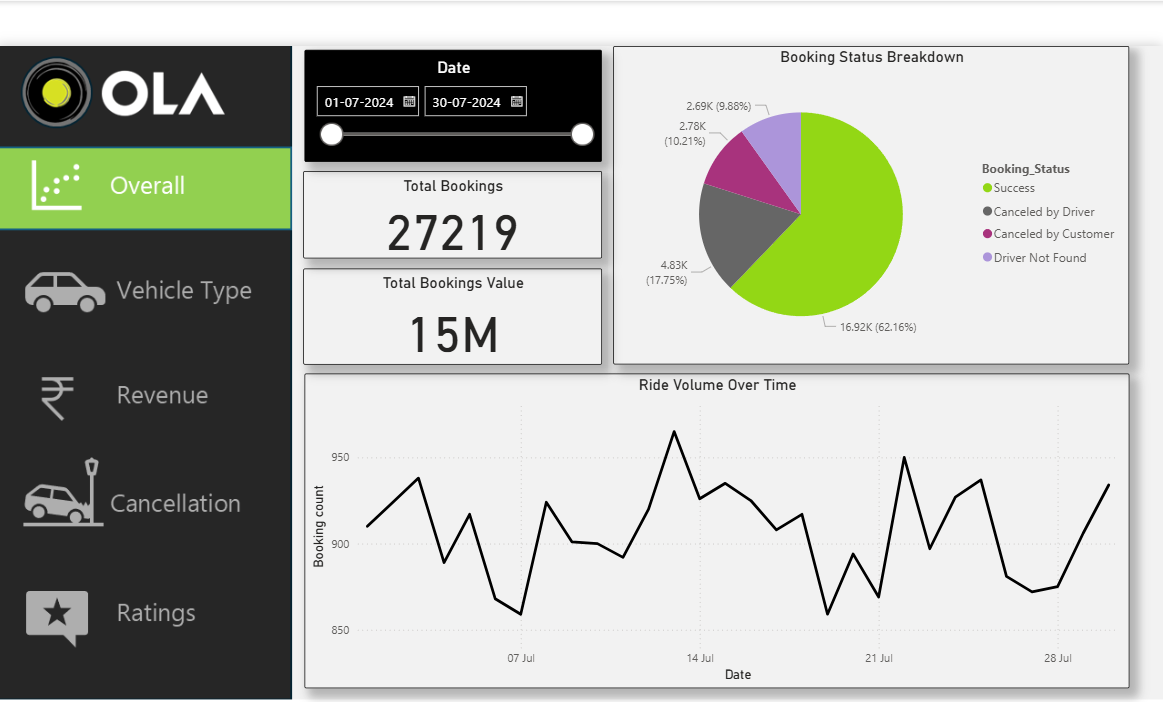

What the dashboard file says about the page in this screenshot:
{"tool":"powerbi","page":{"name":"Overall","canvas":[1280,720],"ordinal":0},"visuals":[{"type":"actionButton","box":[0,112.2,322.1,92.9],"z":0},{"type":"actionButton","box":[0,223.2,322.1,101.3],"z":1000},{"type":"actionButton","box":[0,339,322.1,101.3],"z":2000},{"type":"actionButton","box":[0,453.6,322.1,101.3],"z":3000},{"type":"actionButton","box":[0,571.9,322.1,101.3],"z":4000},{"type":"lineChart","title":"Ride Volume Over Time","fields":{"Y":["CountNonNull(ola-bookings.Booking_ID)"],"Category":["ola-bookings.Date"]},"box":[337.6,359.5,905.7,345.8],"z":5000},{"type":"pieChart","title":"Booking Status Breakdown","fields":{"Category":["ola-bookings.Booking_Status"],"Y":["CountNonNull(ola-bookings.Booking_Status)"]},"box":[676.5,0,566.7,349.9],"z":6000},{"type":"slicer","title":"Date","fields":{"Values":["ola-bookings.Date"]},"box":[337.6,4.1,326.6,123.5],"z":7000},{"type":"card","title":"Total Bookings","fields":{"Values":["Count(ola-bookings.Booking_ID)"]},"box":[336.2,137.2,328,96.1],"z":8000},{"type":"card","title":"Total Bookings Value","fields":{"Values":["Sum(ola-bookings.Booking_Value)"]},"box":[336.2,244.3,328,105.7],"z":9000}]}

Visuals, with their boxes on the page's 1280x720 design canvas (x1, y1, x2, y2). These are canvas units, not pixel positions in the 1163x702 screenshot, which may show the page scaled, cropped or inside an application window:
actionButton: {"left": 0, "top": 112, "right": 322, "bottom": 205}
actionButton: {"left": 0, "top": 223, "right": 322, "bottom": 324}
actionButton: {"left": 0, "top": 339, "right": 322, "bottom": 440}
actionButton: {"left": 0, "top": 454, "right": 322, "bottom": 555}
actionButton: {"left": 0, "top": 572, "right": 322, "bottom": 673}
"Ride Volume Over Time" lineChart: {"left": 338, "top": 360, "right": 1243, "bottom": 705}
"Booking Status Breakdown" pieChart: {"left": 676, "top": 0, "right": 1243, "bottom": 350}
"Date" slicer: {"left": 338, "top": 4, "right": 664, "bottom": 128}
"Total Bookings" card: {"left": 336, "top": 137, "right": 664, "bottom": 233}
"Total Bookings Value" card: {"left": 336, "top": 244, "right": 664, "bottom": 350}
